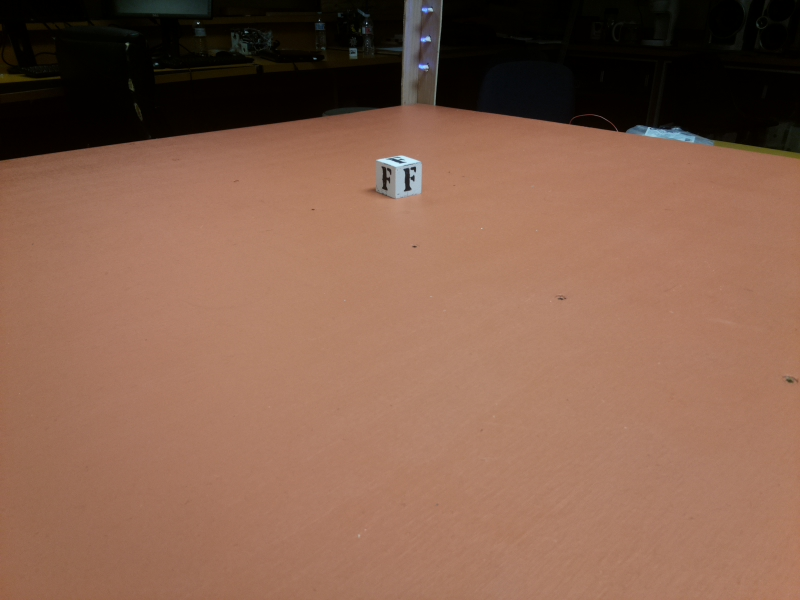blockF: (374, 151, 421, 199)
corner: (392, 1, 445, 103)
